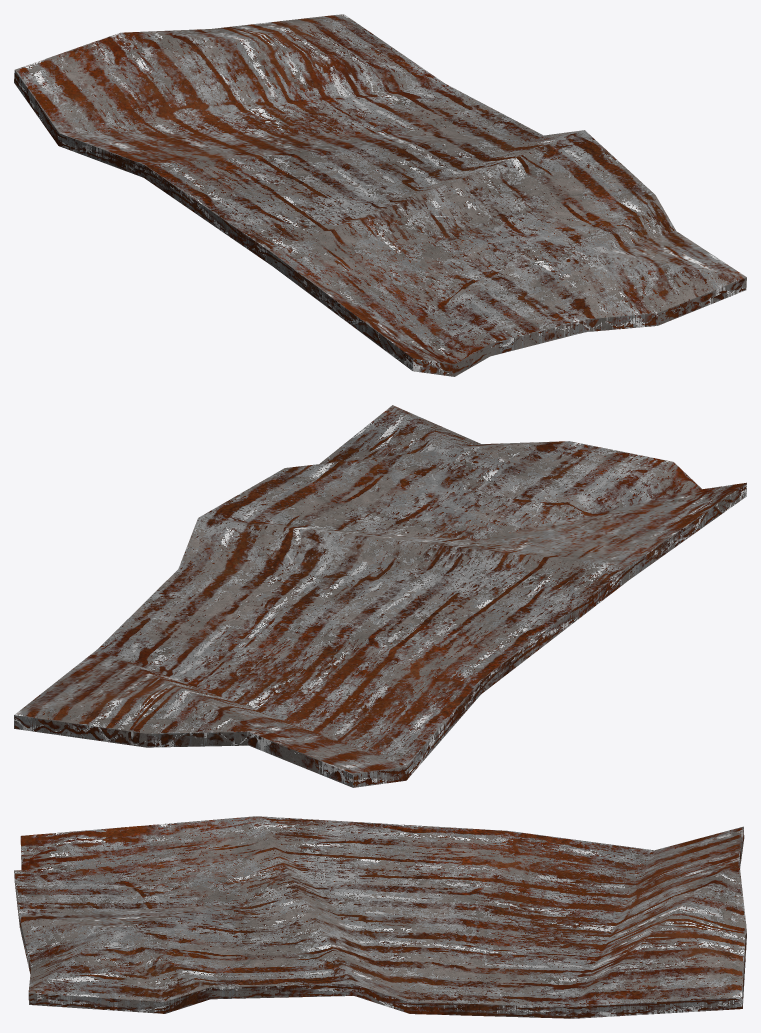
Rendered from corrugated_damaged_2.fbx.
3 renders of one model, top to bottom at view 1: azimuth 30°, elevation 25°; view 2: azimuth 150°, elevation 25°; view 3: azimuth 270°, elevation 25°, orthographic. The views are drawn at different scales.
Visible parts, largest first — view 1: damaged; view 2: damaged; view 3: damaged.
Boxes of the visible parts, x1,y1,x2,y2 form: damaged: [14, 14, 746, 376]; damaged: [14, 405, 746, 787]; damaged: [14, 816, 746, 1018].
Size of the model in its own units: 101 by 14.82 by 190.
